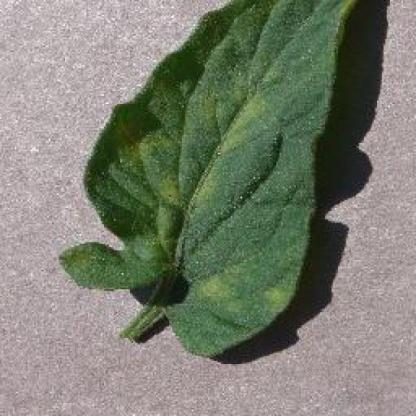Tomato_Leaf_Mold: (64, 2, 352, 334)
